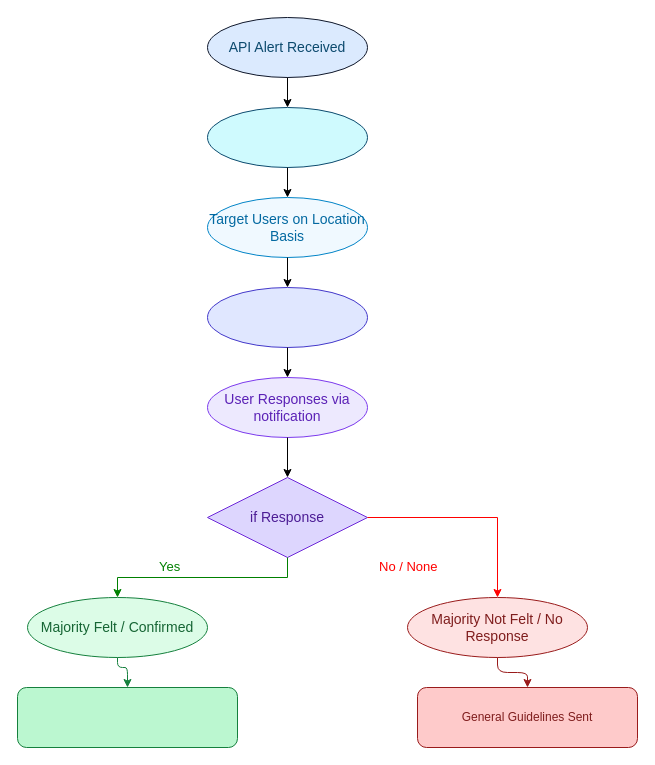
The diagram is 655 pixels wide and 765 high, and some of its shapes have lost their labels. The shapes that lost their labels are listed below. From the top down, each one's centre as x and y in pixels, then its label:
At point (287, 137): "Location Filter".
At point (287, 317): "Notification: 'Did you feel it?'".
At point (127, 717): "Personalized Guidance & Targeted Notifications".
